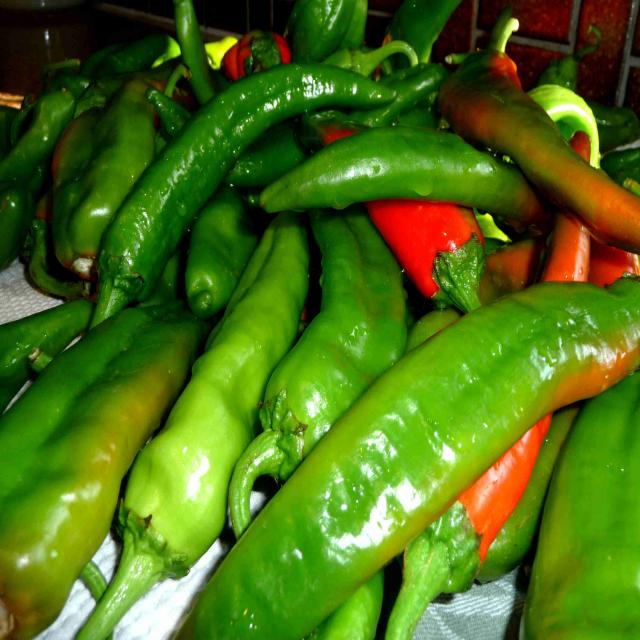chilli: (176, 64, 394, 160), (250, 123, 467, 219)
